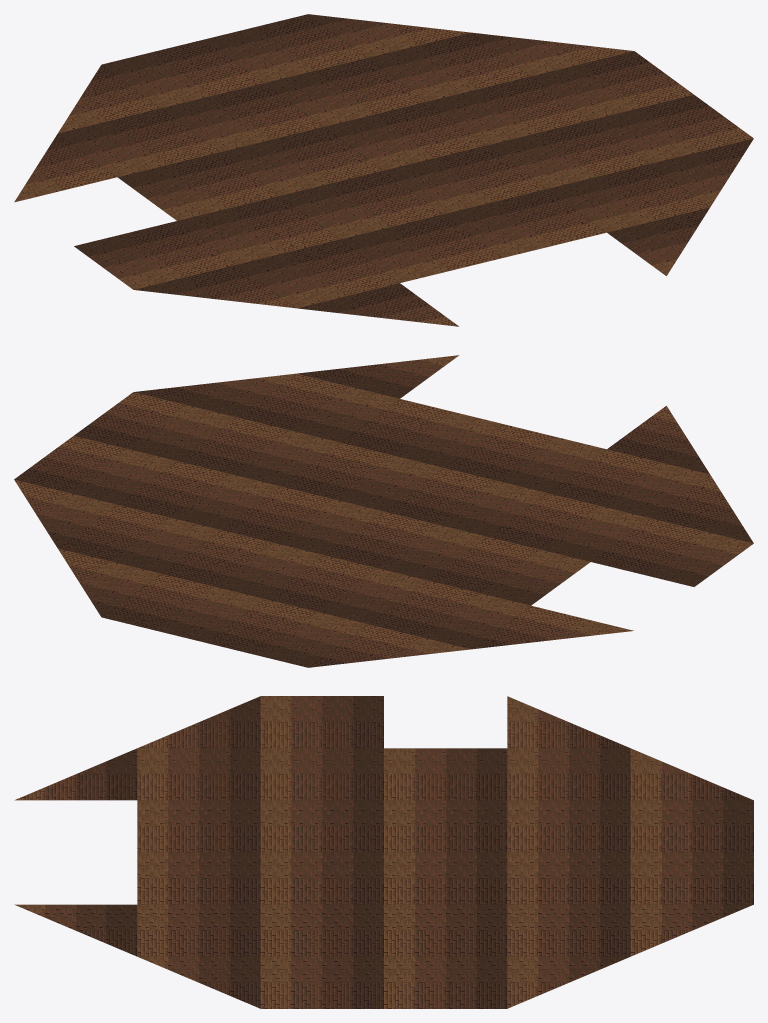
3 renders of one model, top to bottom at view 1: azimuth 30°, elevation 25°; view 2: azimuth 150°, elevation 25°; view 3: azimuth 270°, elevation 25°, orthographic. The views are drawn at different scales.
Visible parts, largest first — view 1: model; view 2: model; view 3: model.
Part boxes in pixels (x1,y1,x2,y2): model: (14, 14, 753, 326); model: (14, 355, 753, 667); model: (14, 696, 753, 1008).
Bounding box in the file's own units: 6 × 0 × 6.
1 material, 1 textured.
